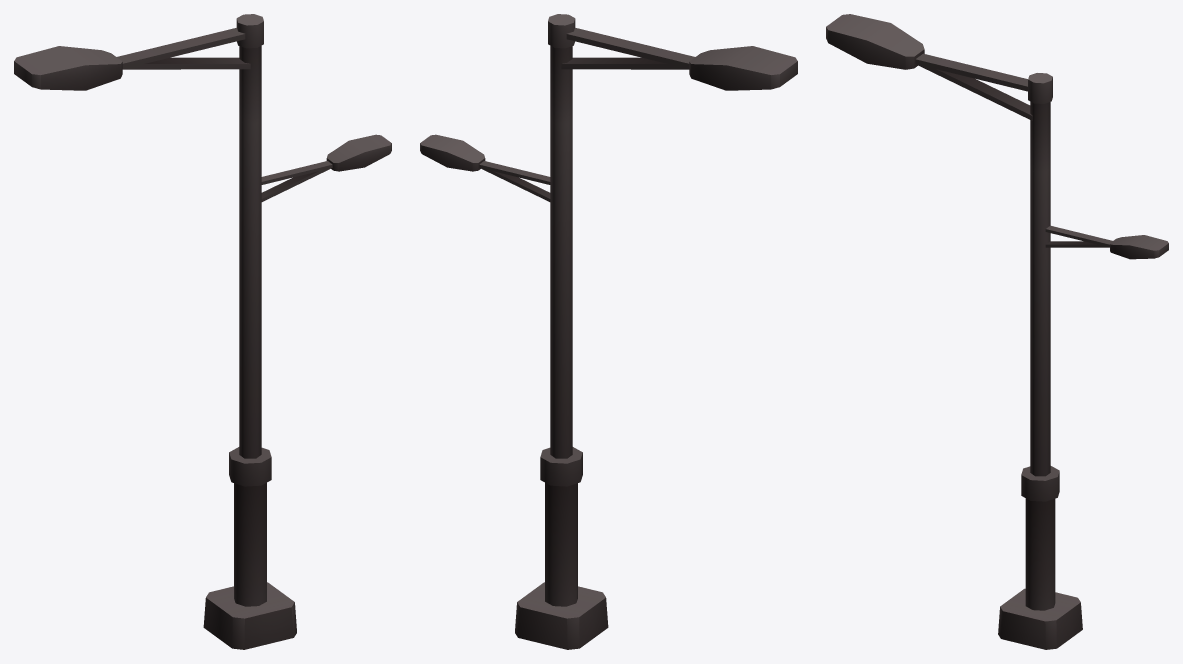
The model's file is Streetlight_5B.fbx.
3 renders of one model, left to right at view 1: azimuth 30°, elevation 25°; view 2: azimuth 150°, elevation 25°; view 3: azimuth 330°, elevation 25°, orthographic. The views are drawn at different scales.
Visible parts, largest first — view 1: Streetlight_5B; view 2: Streetlight_5B; view 3: Streetlight_5B.
Part boxes in pixels (<box>): Streetlight_5B: <box>14,14,391,649</box>; Streetlight_5B: <box>420,14,797,649</box>; Streetlight_5B: <box>826,14,1168,649</box>.
Size of the model in its own units: 498 by 810 by 89.04.
